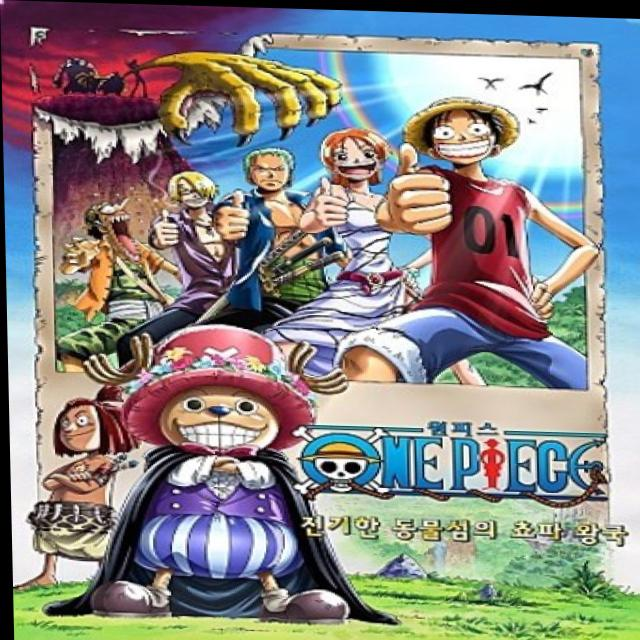Chyopa: (101, 322, 330, 456)
Luffy: (393, 82, 538, 168)
Nami: (305, 124, 395, 184)
Sangdi: (148, 161, 231, 213)
Usopp: (71, 189, 148, 263)
Zoro: (236, 144, 301, 193)
